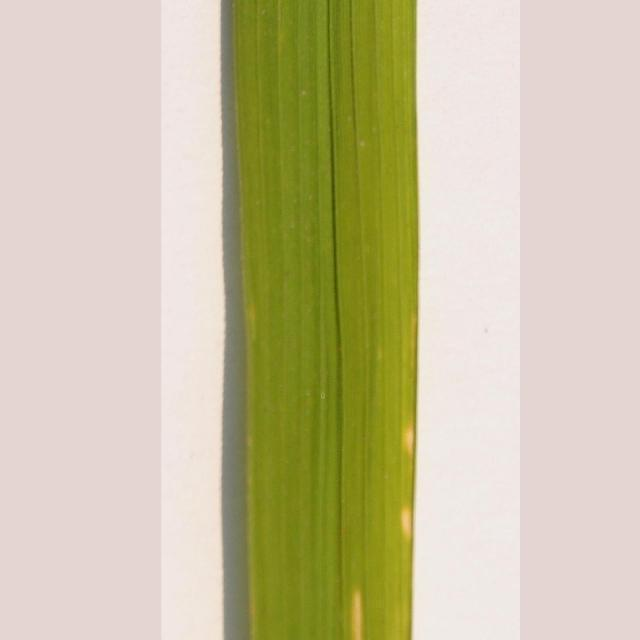Bacterial_Leaf_Blight: (373, 355, 431, 580), (335, 580, 376, 640)
